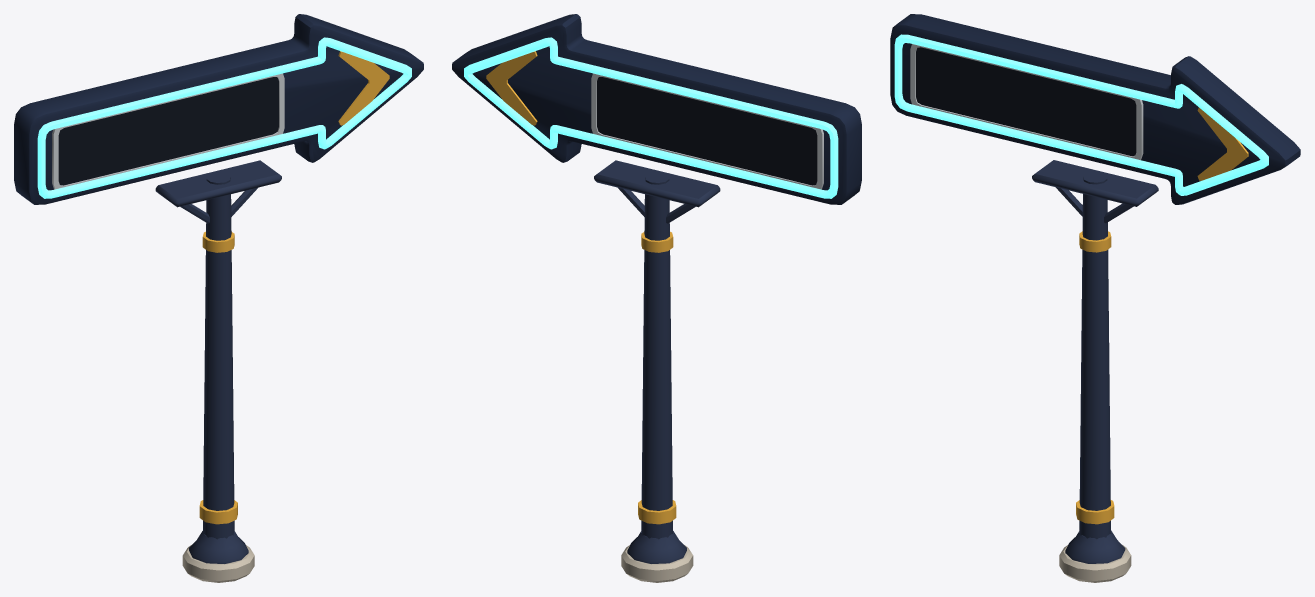
Rendered from Lobby_NeonArrowSign.fbx.
3 views of the same model, side by side, from view 1: azimuth 30°, elevation 25°; view 2: azimuth 150°, elevation 25°; view 3: azimuth 330°, elevation 25° (orthographic).
Visible parts, largest first — view 1: SignBox, Screen, Post, Neon, Bracket, Bezels, Footing, Chevrons, Collars; view 2: SignBox, ScreenBack, Post, Neon, Bracket, Bezels, Footing, Chevrons, Collars; view 3: SignBox, Screen, Post, Neon, Bracket, Bezels, Footing, Chevrons, Collars.
Boxes of the visible parts, x1,y1,x2,y2 form: SignBox: (14,14,423,204); Screen: (58,77,278,185); Post: (189,172,248,563); Neon: (37,37,411,198); Bracket: (155,160,281,223); Bezels: (52,73,284,189); Footing: (182,545,254,582); Chevrons: (338,51,389,125); Collars: (199,231,237,524); SignBox: (452,14,861,204); ScreenBack: (597,77,817,185); Post: (627,172,686,563); Neon: (464,37,838,198); Bracket: (594,160,720,223); Bezels: (591,73,823,189); Footing: (621,545,693,582); Chevrons: (486,51,537,125); Collars: (638,231,676,524); SignBox: (890,14,1300,204); Screen: (916,47,1136,155); Post: (1065,172,1125,563); Neon: (894,34,1268,195); Bracket: (1032,160,1158,223); Bezels: (910,44,1143,160); Footing: (1059,544,1131,582); Chevrons: (1197,107,1248,180); Collars: (1076,231,1114,524).
Size of the model in its own units: 701 by 894 by 110.
